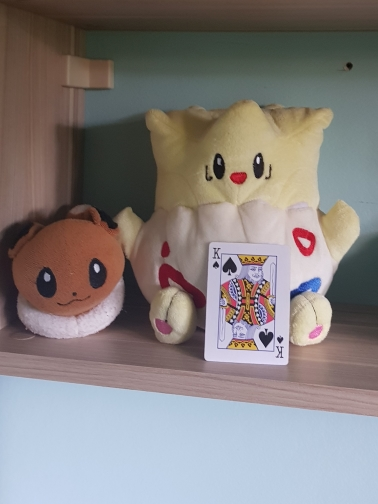king: (202, 240, 291, 367)
